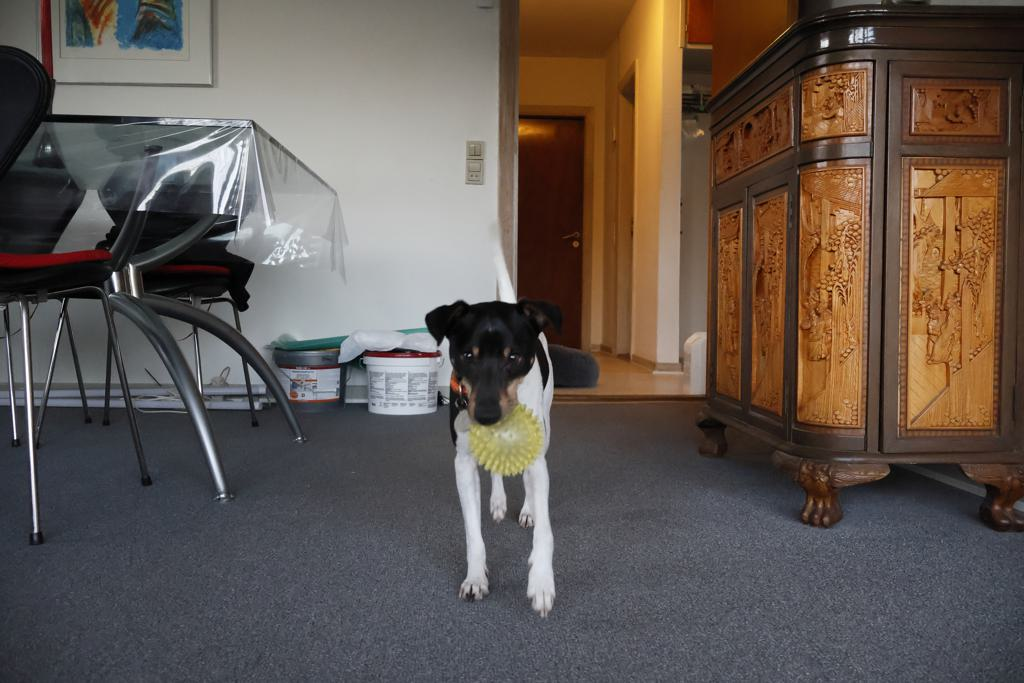Dog: (410, 208, 574, 635)
